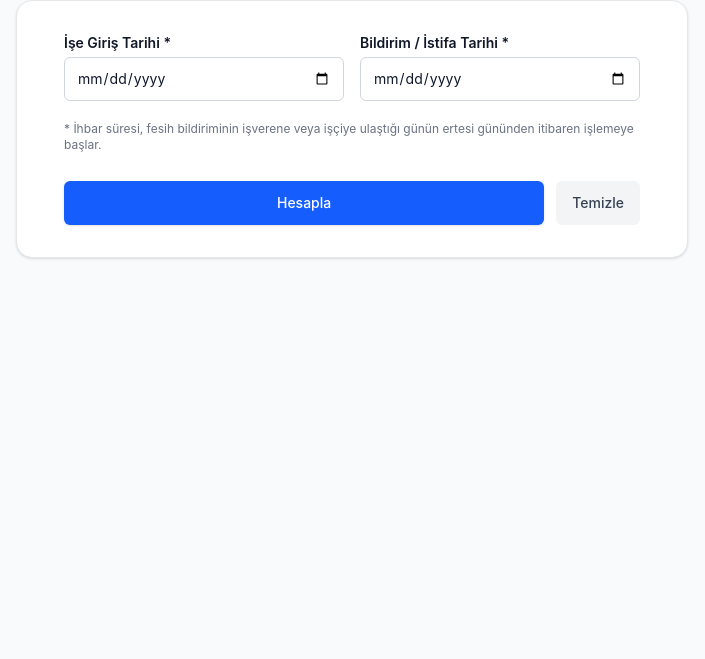
NoticePeriodCalculator — UI ve Etkileşim Testleri › Temizle butonuna basıldığında form ve sonuçlar sıfırlanmalı
The image size is (705, 659).
Type "2025-01-01" into the date field labelled "İşe Giriş Tarihi *" at (204, 79), box [64,57,344,101]
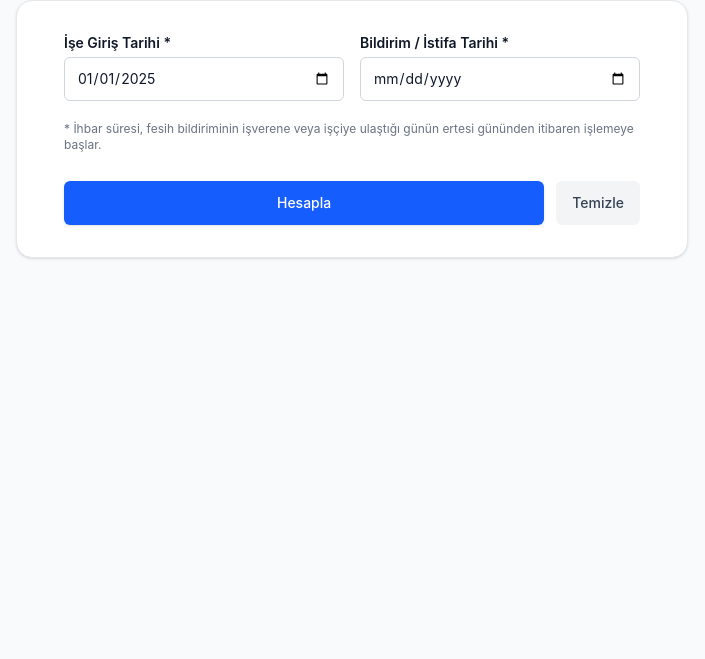
Type "2026-01-01" into the date field labelled "Bildirim / İstifa Tarihi *" at (500, 79), box [360,57,640,101]
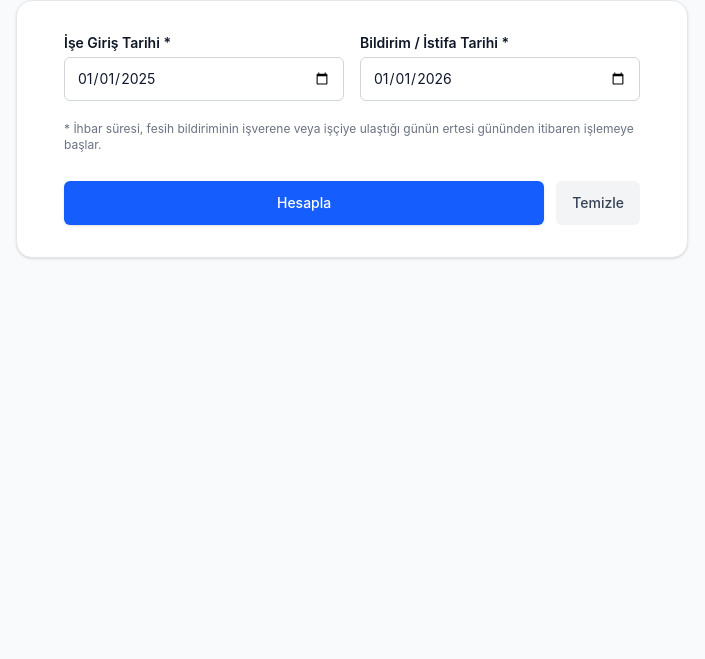
Click the button "Hesapla" at (304, 203), box [64,181,544,225]
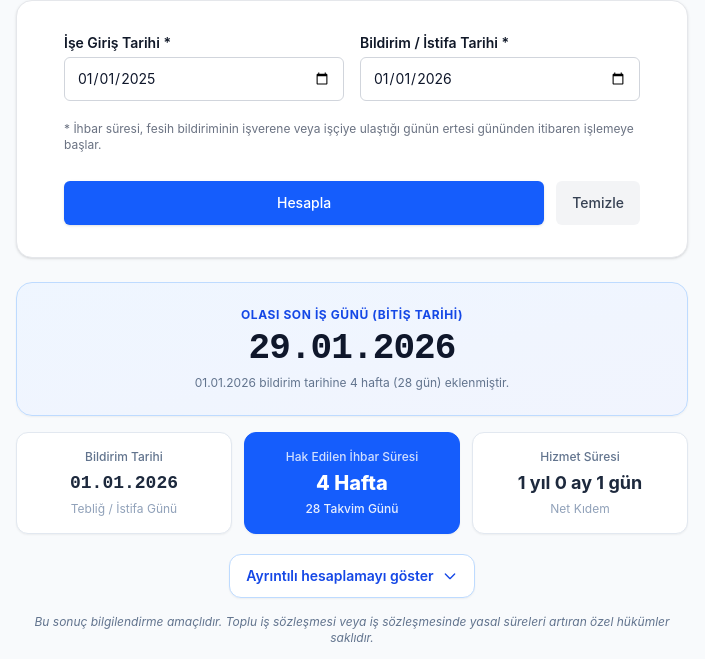
Expected: the text "Olası Son İş Günü (Bitiş Tarihi)" is shown, [241,307,463,323]
Click the button "Temizle" at (598, 203), box [556,181,640,225]
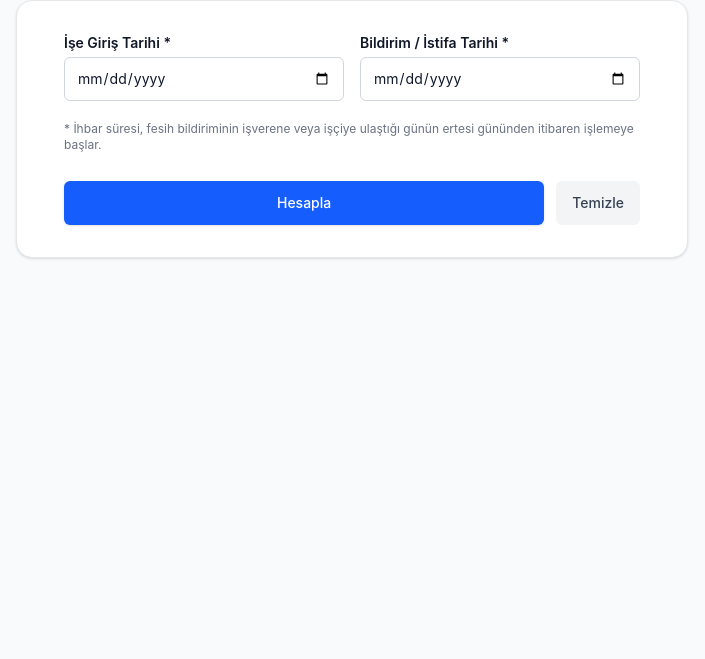
Expected: the text "Olası Son İş Günü (Bitiş Tarihi)" is gone
Expected: the date field labelled "İşe Giriş Tarihi *" is empty, [64,57,344,101]
Expected: the date field labelled "Bildirim / İstifa Tarihi *" is empty, [360,57,640,101]
